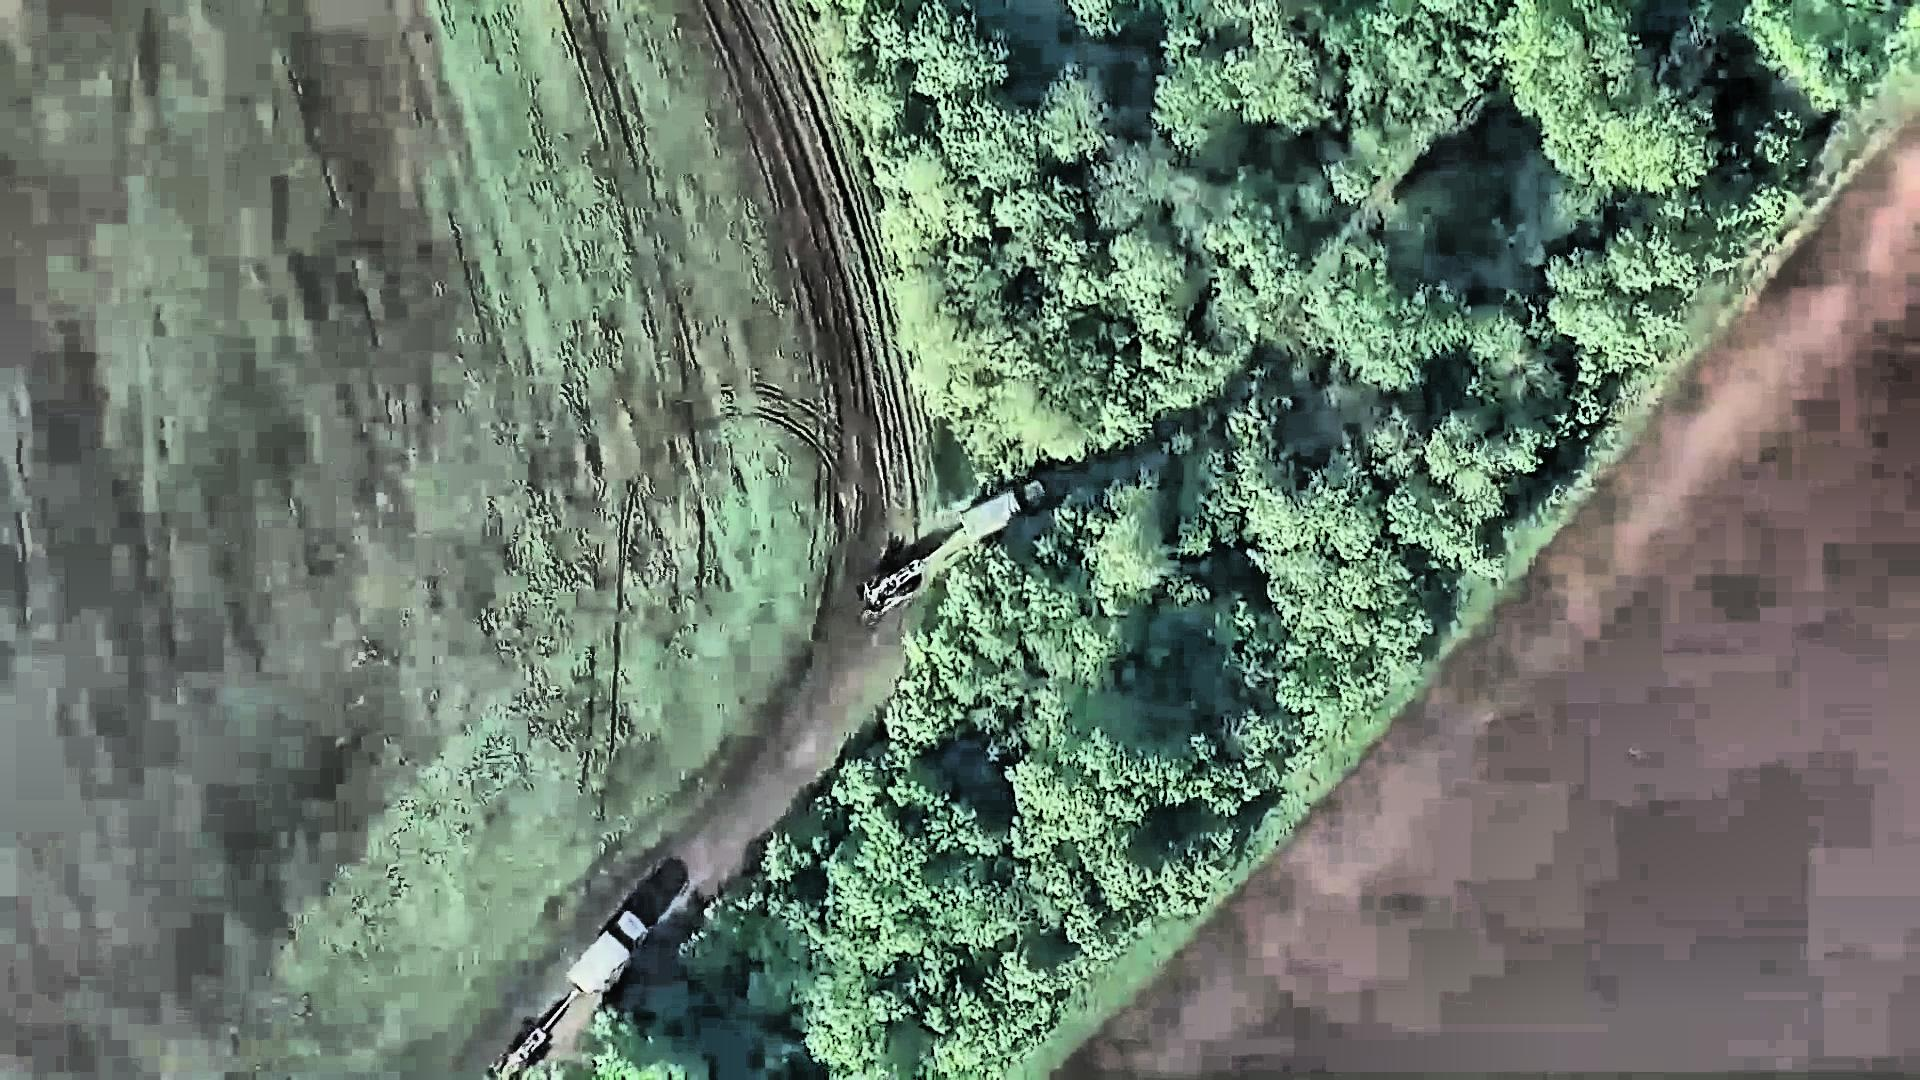military-vehicle: (568, 911, 651, 998), (957, 480, 1047, 541)
